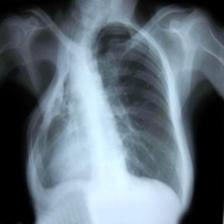tuberculosis: (24, 15, 194, 216)
